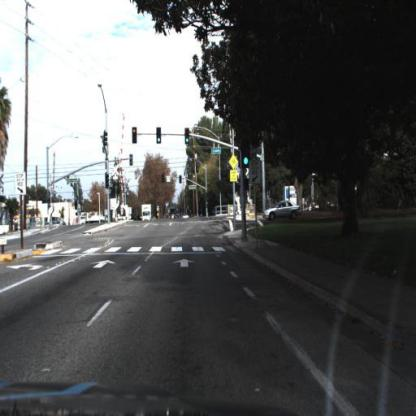car: (262, 202, 304, 223), (46, 215, 70, 229), (170, 210, 182, 226)
trafficLight-Green: (241, 131, 251, 168), (157, 123, 163, 150), (185, 127, 190, 146), (157, 128, 162, 144)
trafficLight-RedLeft: (132, 122, 139, 143), (132, 128, 138, 145)
truck: (138, 201, 152, 226)
